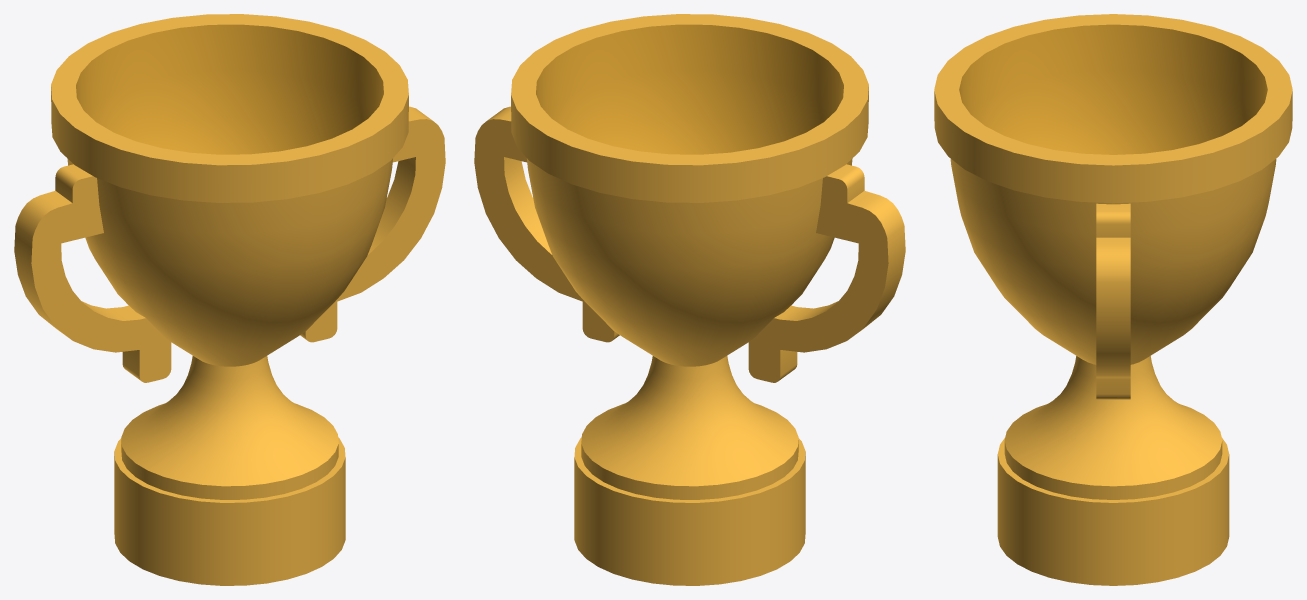
Rendered from Goblet B Multi.fbx.
3 renders of one model, left to right at view 1: azimuth 30°, elevation 25°; view 2: azimuth 150°, elevation 25°; view 3: azimuth 270°, elevation 25°, orthographic.
Parts seen in each view (by area): view 1: Goblet B; view 2: Goblet B; view 3: Goblet B.
Boxes of the visible parts, bbox=[...] form: Goblet B: bbox=[14, 14, 445, 585]; Goblet B: bbox=[474, 14, 905, 585]; Goblet B: bbox=[934, 14, 1292, 585].
Bounding box in the file's own units: 0.5992 × 0.6185 × 0.4494.
